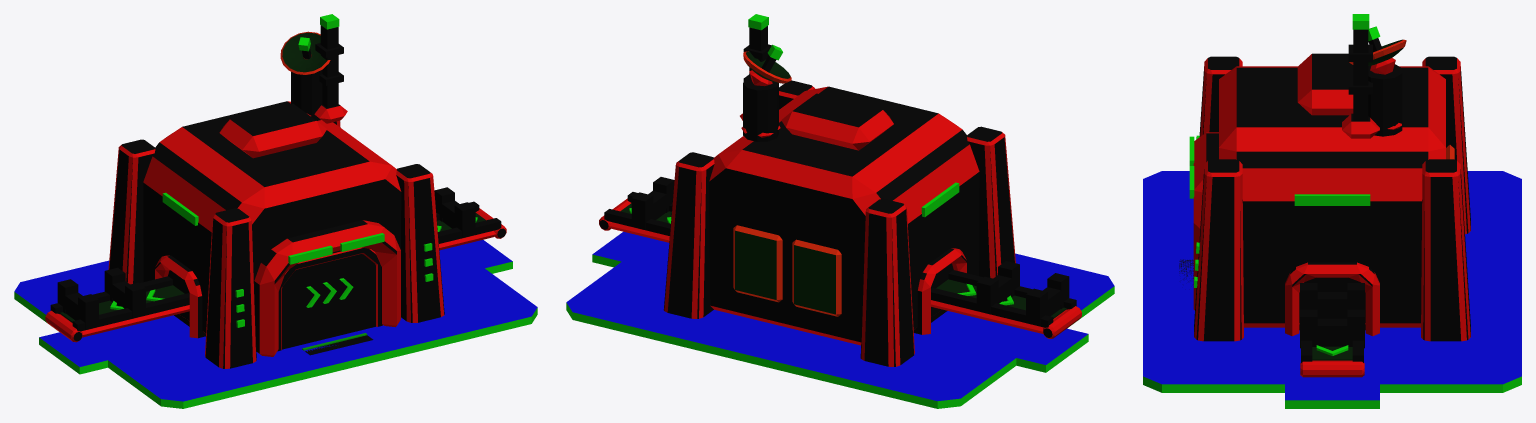
Rendered from SM_Holo_LogisticsHub_T1_Mini.fbx.
The picture shows the model from 3 angles, left to right: view 1: azimuth 30°, elevation 25°; view 2: azimuth 150°, elevation 25°; view 3: azimuth 270°, elevation 25°; orthographic projection. The views are drawn at different scales.
Visible parts, largest first — view 1: SM_Holo_LogisticsHub_T1_Mini; view 2: SM_Holo_LogisticsHub_T1_Mini; view 3: SM_Holo_LogisticsHub_T1_Mini.
Part boxes in pixels (<box>): SM_Holo_LogisticsHub_T1_Mini: <box>14,14,537,408</box>; SM_Holo_LogisticsHub_T1_Mini: <box>566,14,1114,408</box>; SM_Holo_LogisticsHub_T1_Mini: <box>1143,14,1521,408</box>.
Bounding box in the file's own units: 18.51 × 10.72 × 12.
